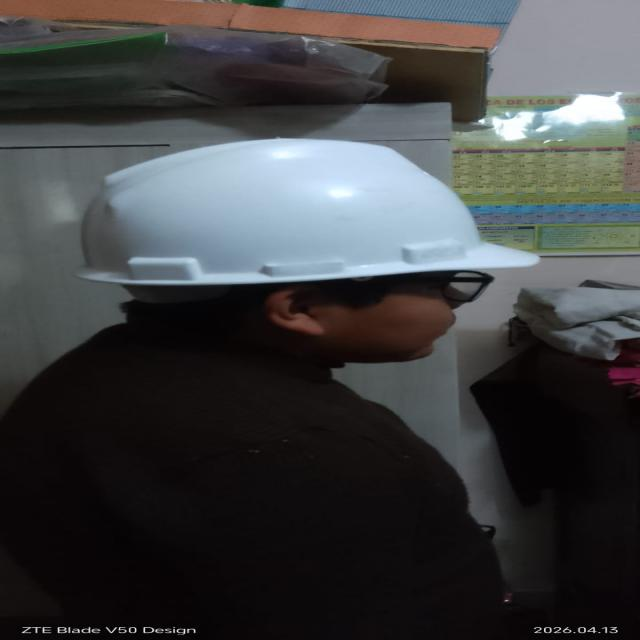casco: (71, 128, 569, 294)
